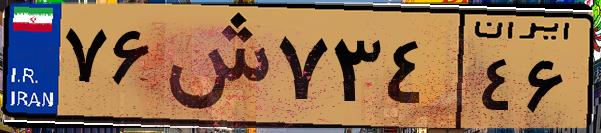3: (330, 28, 385, 110)
4: (385, 28, 445, 110), (475, 38, 525, 113)
6: (525, 38, 570, 115), (110, 28, 158, 98)
7: (270, 28, 330, 110), (57, 26, 110, 100)
ش: (158, 12, 270, 120)
